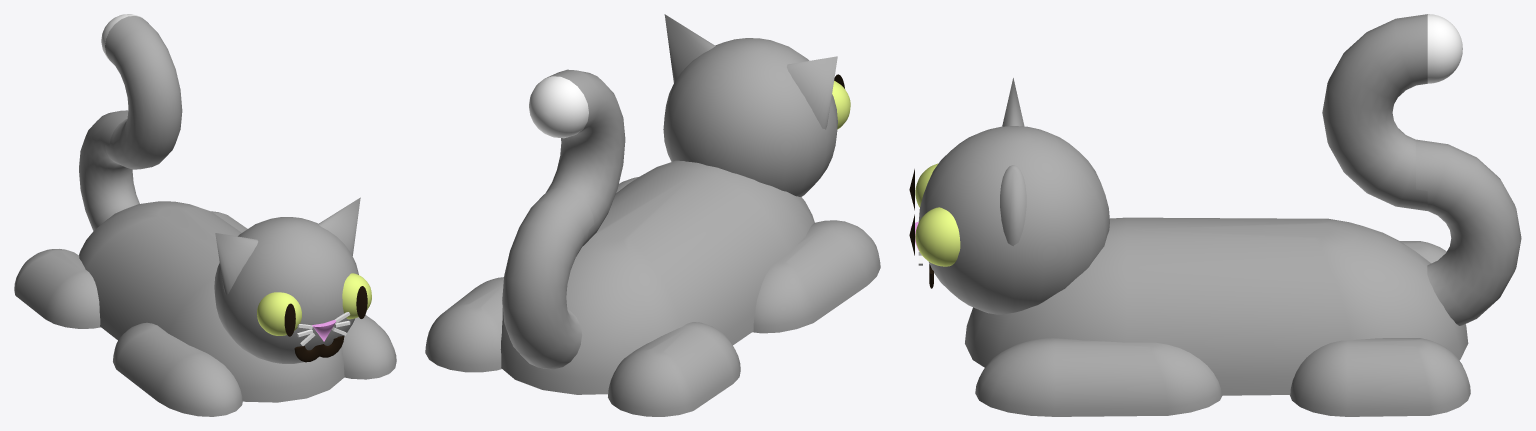
File: Cat.fbx
3 views of the same model, side by side, from view 1: azimuth 30°, elevation 25°; view 2: azimuth 150°, elevation 25°; view 3: azimuth 270°, elevation 25° (orthographic). The views are drawn at different scales.
Parts seen in each view (by area): view 1: pSphere1, pSphere2, pasted__pSphere1, pasted__pTorus2, pasted__pasted__pSphere1, pTorus2, pSphere3, pCone1, pasted__pCone1, pTorus1, pCone3; view 2: pSphere1, pSphere2, pasted__pasted__pSphere1, pTorus2, pasted__pSphere1, pasted__pTorus2, pSphere4, pCone1, pasted__pCone1, pSphere3; view 3: pSphere1, pSphere2, pasted__pSphere1, pasted__pTorus2, pTorus2, pasted__pasted__pSphere1, pSphere3, pSphere4, pasted__pCone1, pCone1.
Part boxes in pixels (x1,y1,x2,y2): pSphere1: (79, 201, 344, 402); pSphere2: (214, 217, 358, 363); pasted__pSphere1: (113, 315, 396, 416); pasted__pTorus2: (105, 16, 182, 169); pasted__pasted__pSphere1: (14, 211, 247, 328); pTorus2: (79, 110, 139, 230); pSphere3: (257, 273, 371, 335); pCone1: (215, 233, 258, 294); pasted__pCone1: (318, 197, 360, 255); pTorus1: (294, 336, 344, 362); pCone3: (284, 286, 367, 336); pSphere1: (500, 160, 814, 394); pSphere2: (663, 38, 837, 196); pasted__pasted__pSphere1: (425, 277, 740, 416); pTorus2: (502, 187, 594, 369); pasted__pSphere1: (616, 177, 880, 333); pasted__pTorus2: (546, 69, 625, 245); pSphere4: (529, 76, 588, 138); pCone1: (787, 56, 837, 129); pasted__pCone1: (664, 14, 715, 82); pSphere3: (832, 80, 850, 129); pSphere1: (965, 217, 1468, 395); pSphere2: (918, 126, 1109, 314); pasted__pSphere1: (975, 338, 1222, 416); pasted__pTorus2: (1322, 14, 1427, 210); pTorus2: (1416, 139, 1521, 325); pasted__pasted__pSphere1: (1290, 241, 1470, 416); pSphere3: (915, 163, 960, 266); pSphere4: (1427, 14, 1462, 83); pasted__pCone1: (1000, 165, 1026, 246); pCone1: (1002, 78, 1024, 126).
Size of the model in its own units: 2.11 by 2.23 by 3.78.
